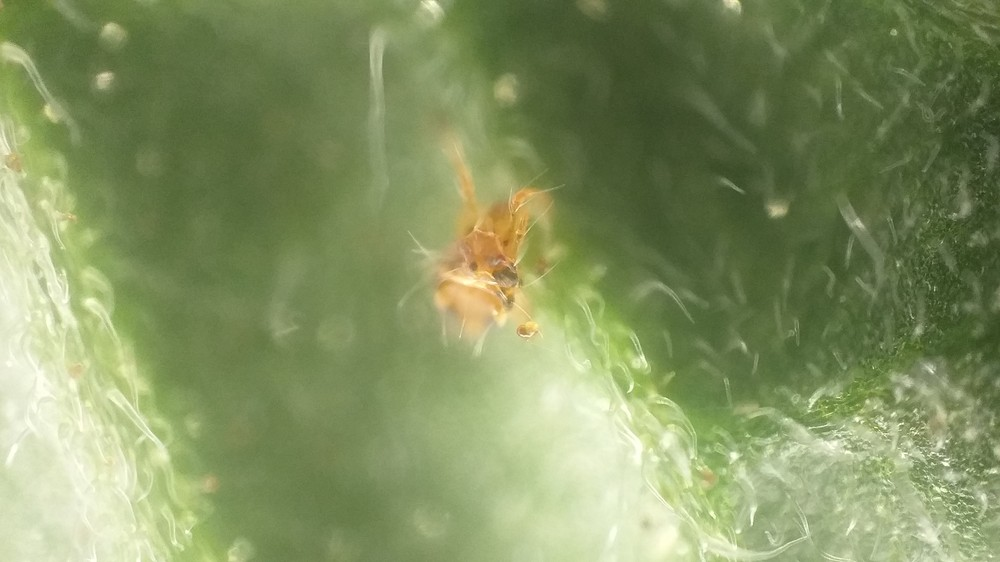Aracnido Rojo: (373, 125, 569, 364)
